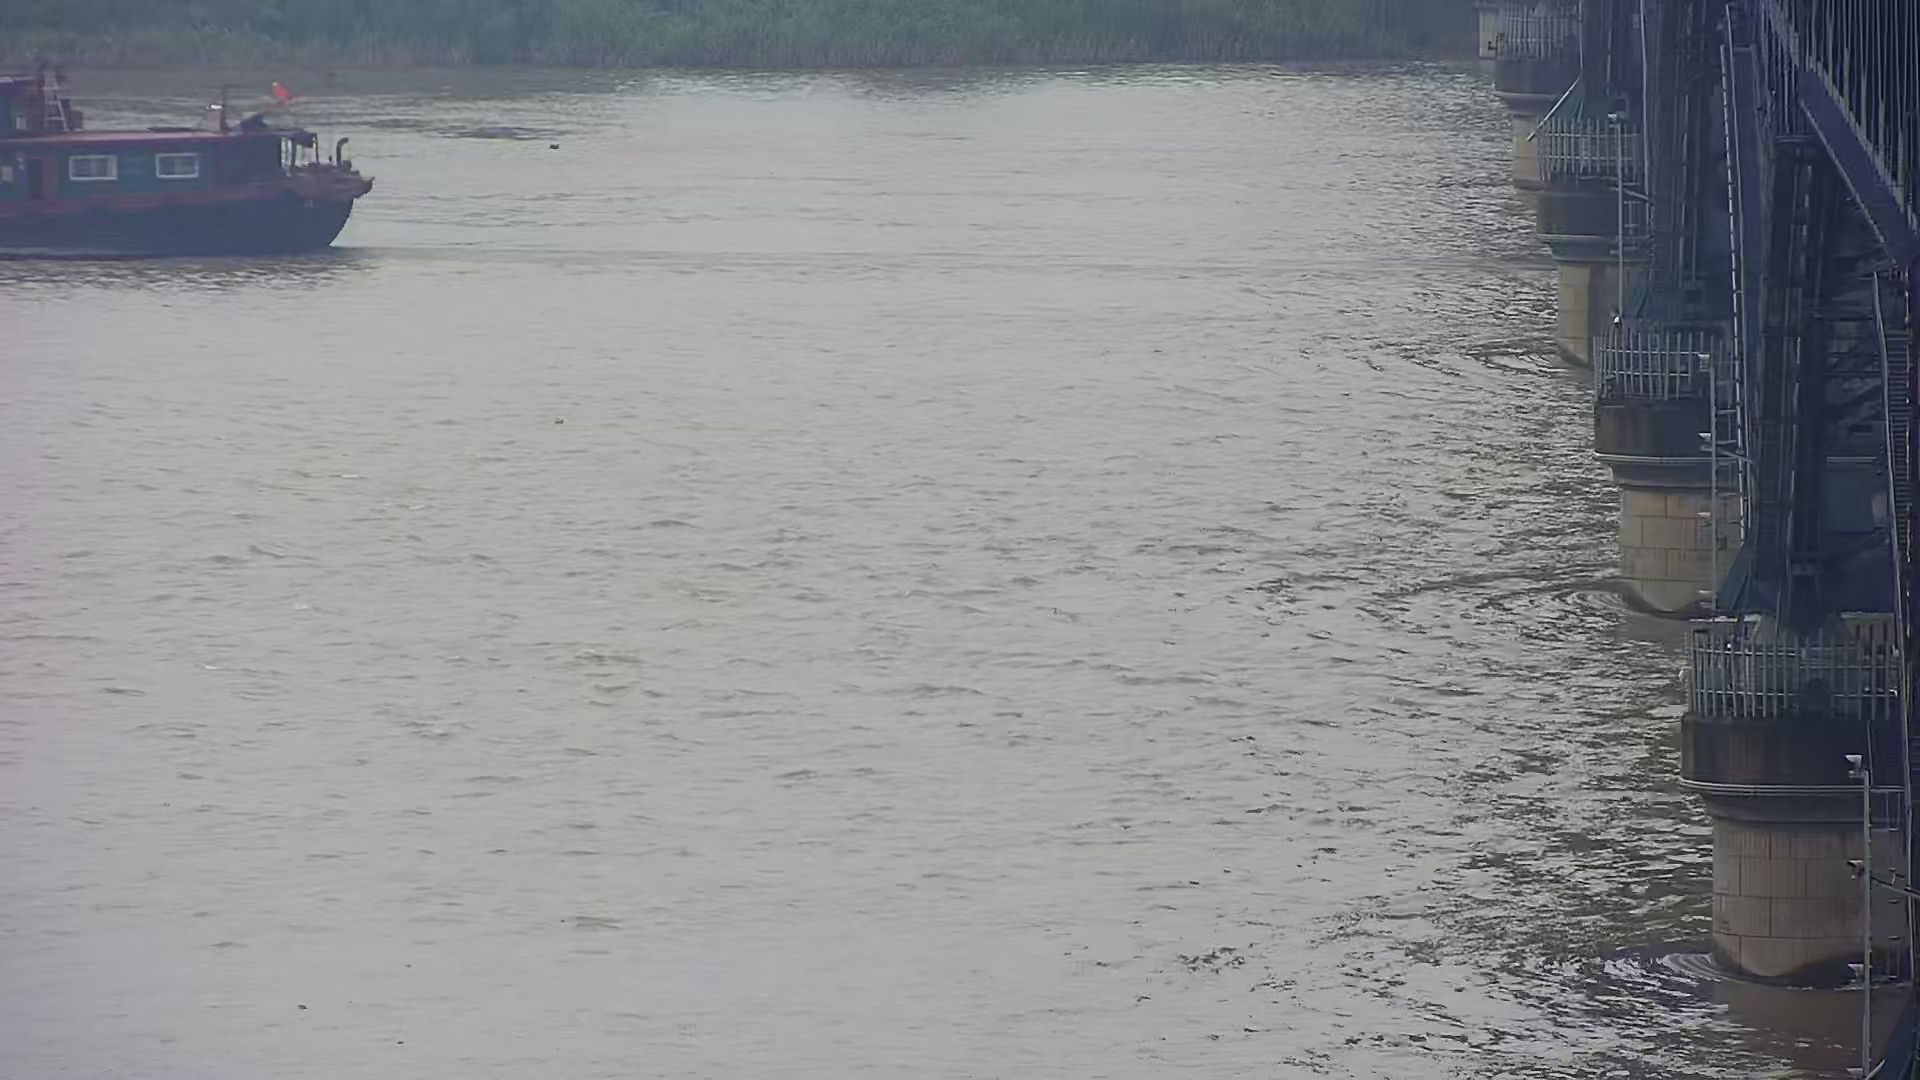bridge: (1477, 4, 1920, 990)
ship: (1, 70, 378, 255)
